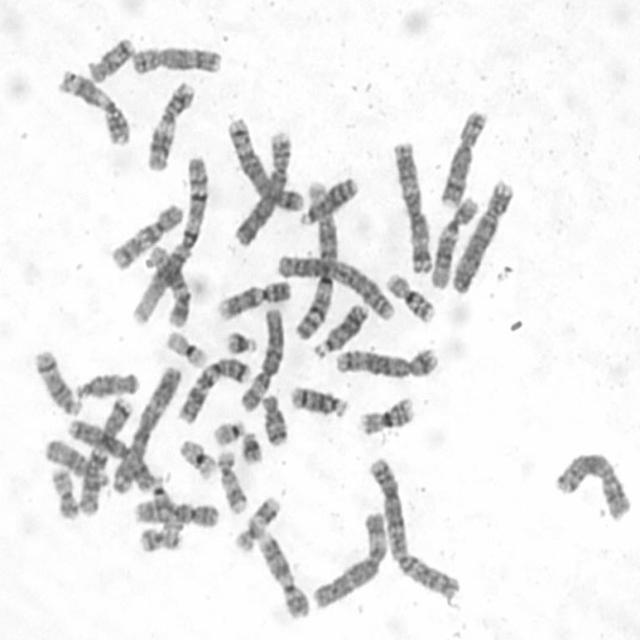A1: (128, 154, 211, 326), (290, 173, 338, 344)
A2: (365, 453, 462, 600), (274, 250, 398, 322)
A3: (109, 362, 184, 494), (389, 137, 434, 275)
B4: (448, 177, 517, 296), (230, 126, 294, 249)
B5: (224, 112, 306, 213), (333, 343, 440, 380)
C10: (107, 199, 186, 273), (131, 497, 221, 528)
C11: (54, 66, 132, 147), (144, 77, 197, 172)
C12: (427, 192, 481, 292), (144, 240, 192, 330)
C6: (310, 507, 390, 610), (237, 304, 286, 414)
C7: (75, 394, 135, 518), (175, 353, 252, 425)
C8: (437, 106, 489, 209), (128, 42, 224, 77)
C9: (256, 529, 310, 621), (215, 276, 293, 322)
D13: (311, 300, 370, 359), (296, 172, 359, 227)
D14: (31, 345, 81, 417), (288, 382, 350, 420)
D15: (42, 435, 111, 487), (73, 367, 141, 400)
E16: (383, 269, 437, 324), (355, 392, 416, 437)
E17: (231, 493, 282, 554), (214, 446, 248, 516)
E18: (84, 34, 135, 84), (257, 390, 290, 450)
F19: (176, 435, 218, 482), (164, 327, 210, 369)
F20: (48, 464, 80, 520), (136, 522, 184, 553)
G21: (222, 327, 258, 355), (240, 428, 264, 465)
G22: (211, 416, 248, 447), (150, 474, 175, 514)
X: (66, 414, 158, 498), (550, 447, 632, 523)
